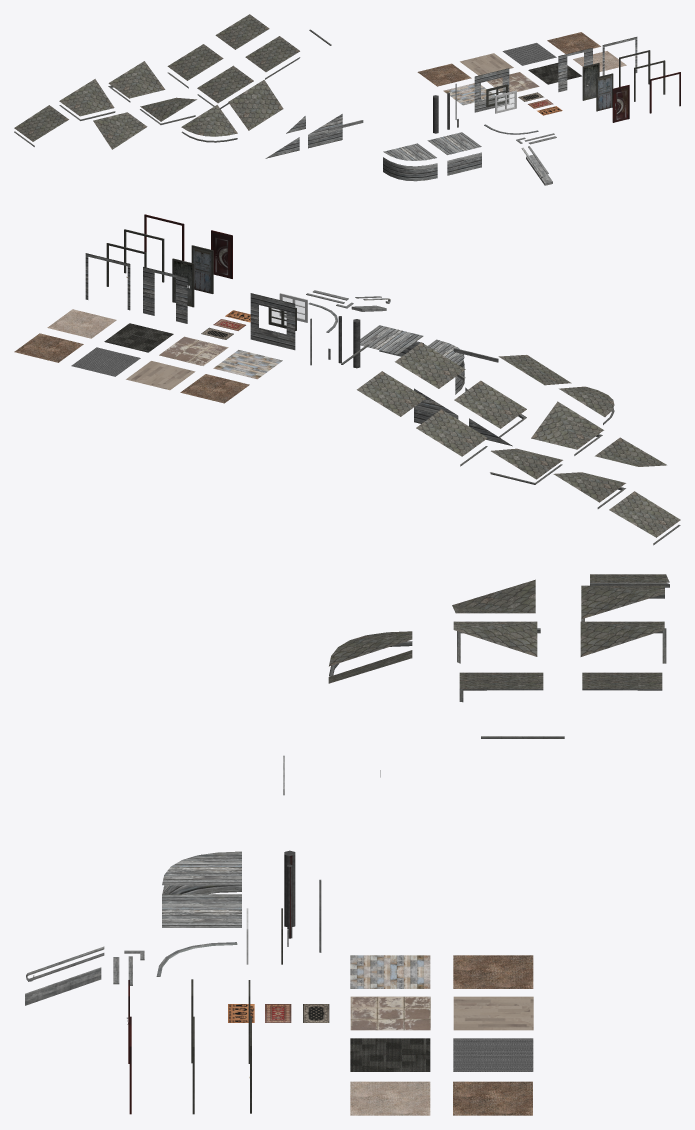
Rendered from house.glb.
3 views of the same model, one above another, from view 1: azimuth 30°, elevation 25°; view 2: azimuth 150°, elevation 25°; view 3: azimuth 270°, elevation 25° (orthographic). The views are drawn at different scales.
Parts seen in each view (by area): view 1: roof01, roof003, roof05, roof001, roof08, curveroof001, roof07, roof09, roof04, roof010, woodbottomcurve001, Window_hole016 (+21 smaller); view 2: roof03, roof08, roof07, roof09, roof04, Window_hole016, roof010, Door_hole001, carpet01, carpet02, wood_Tile01, carpet04 (+15 smaller); view 3: carpet001, Tile009, Wood_Tile, carpet02, carpet01, carpet03, carpet04, wood_Tile01, Wood003, woodcurve002, roof003, roof03 (+4 smaller).
Boxes of the visible parts, x1,y1,x2,y2 form: roof01: (228, 80, 283, 130); roof003: (108, 61, 165, 98); roof05: (59, 79, 114, 116); roof001: (93, 112, 147, 149); roof08: (197, 65, 253, 103); curveroof001: (181, 105, 237, 136); roof07: (167, 44, 223, 80); roof09: (245, 36, 299, 71); roof04: (14, 105, 68, 141); roof010: (215, 14, 269, 49); woodbottomcurve001: (383, 157, 437, 181); Window_hole016: (474, 68, 509, 112); roof03: (531, 401, 603, 449); roof08: (454, 380, 526, 428); roof07: (416, 409, 487, 456); roof09: (395, 342, 465, 388); roof04: (609, 491, 680, 537); Window_hole016: (250, 293, 295, 350); roof010: (357, 371, 425, 416); Door_hole001: (143, 267, 187, 323); carpet01: (71, 347, 140, 376); carpet02: (14, 333, 83, 362); wood_Tile01: (213, 350, 282, 379); carpet04: (104, 323, 173, 352); carpet001: (350, 1081, 430, 1115); Tile009: (350, 996, 430, 1030); Wood_Tile: (453, 996, 533, 1030); carpet02: (453, 1081, 532, 1115); carpet01: (453, 1038, 533, 1071); carpet03: (453, 955, 533, 988); carpet04: (350, 1038, 430, 1071); wood_Tile01: (350, 955, 430, 988); Wood003: (162, 894, 241, 927); woodcurve002: (162, 851, 241, 885); roof003: (580, 621, 664, 656); roof03: (453, 621, 537, 656).
Size of the model in its own units: 103 by 16.24 by 53.75.
1 material, 1 textured.
